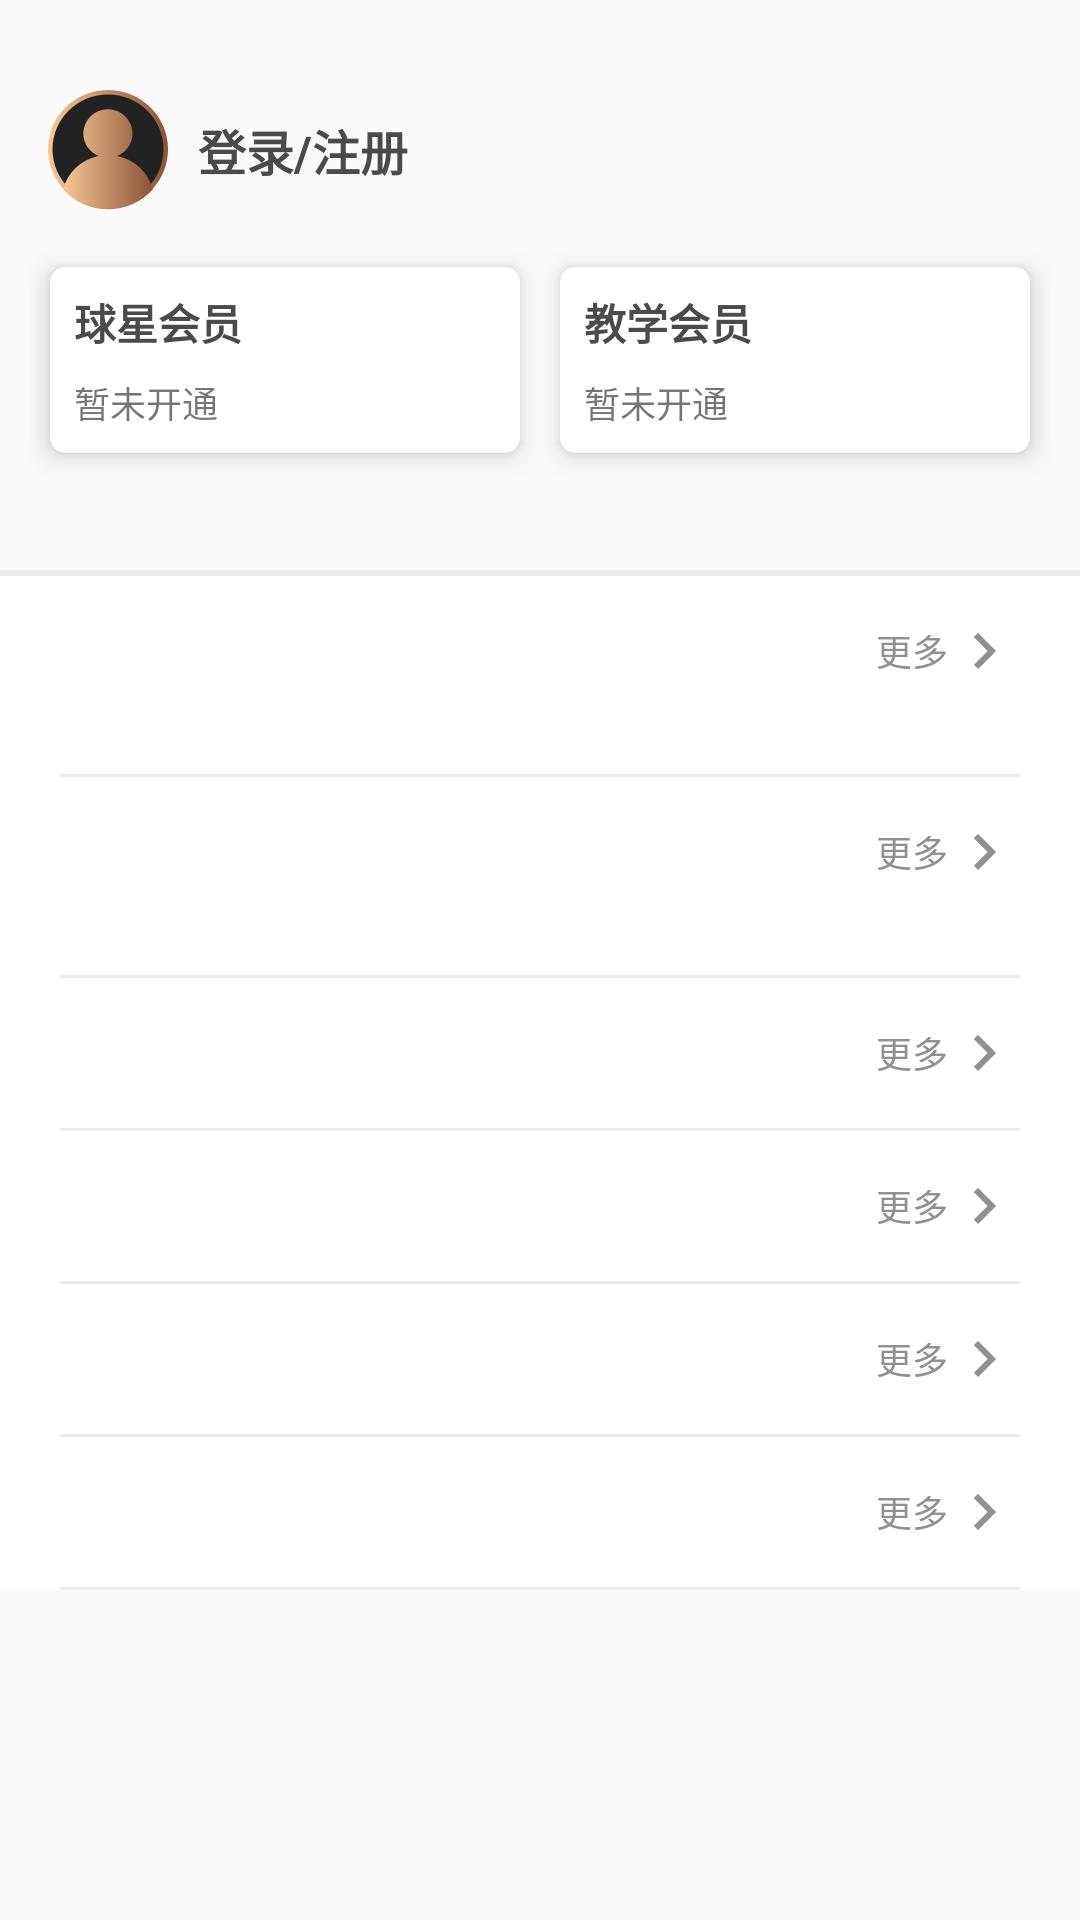

Screen size 1080px x 1920px. Icon name, then its box in pixels as (x1, y1, x2, y2):
head: (48, 90, 168, 210)
